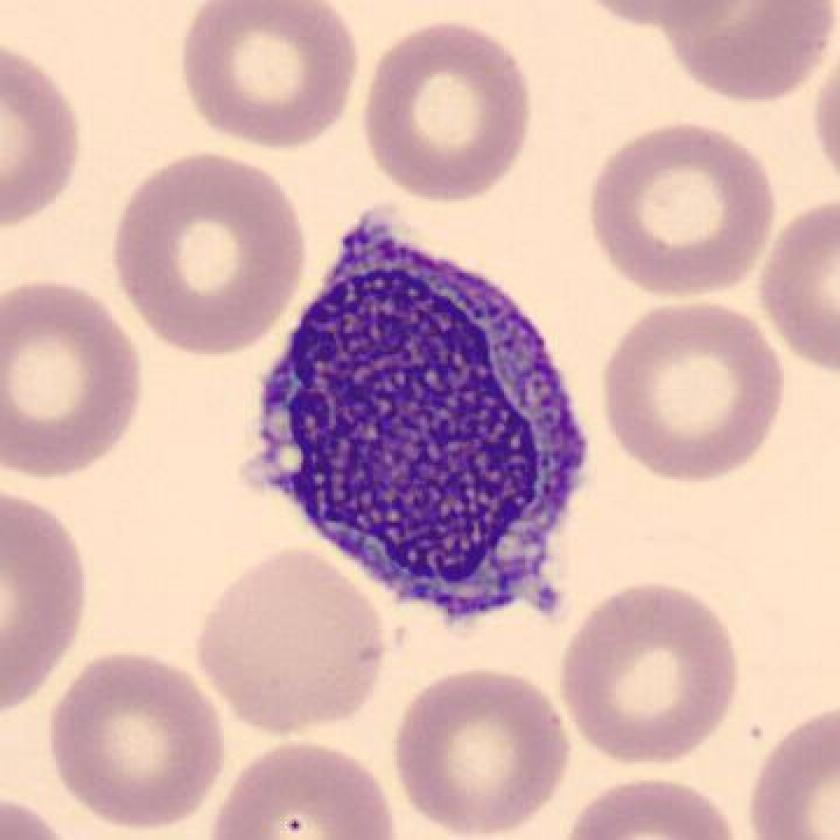monocyte: (230, 193, 617, 642)
